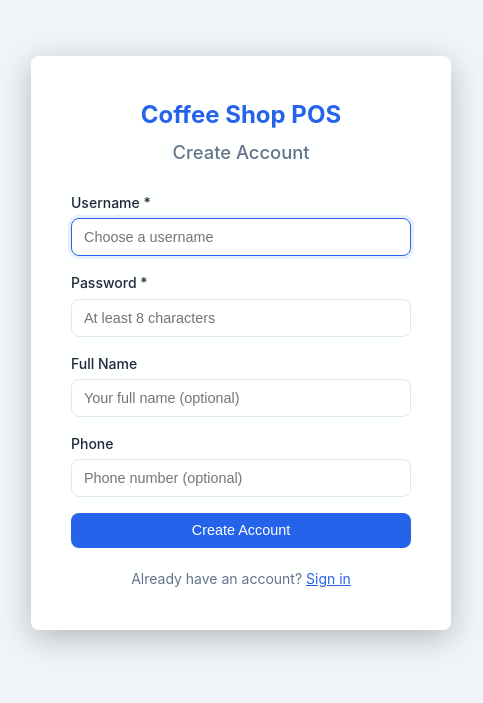
RegisterPage › shows error message on registration failure
This screenshot has width=483, height=703.
In the field labelled "Username *": (241, 237) [71,218,411,256], type "existing"
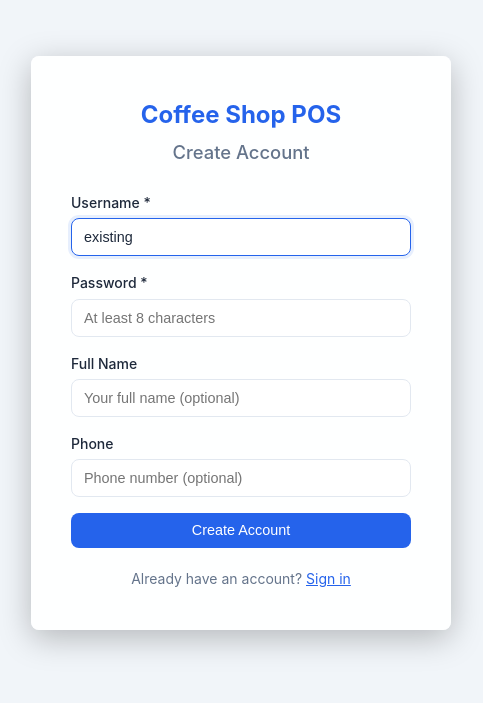
In the password field labelled "Password *": (241, 318) [71,298,411,336], type "password123"
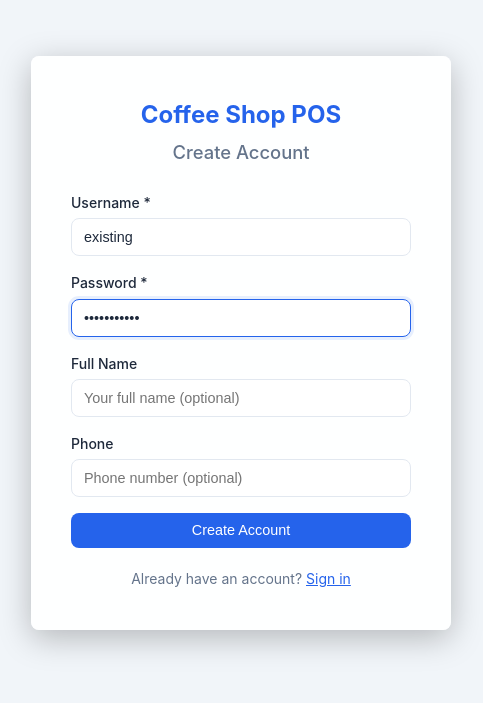
Click the button "Create Account": (241, 530) [71,513,411,548]
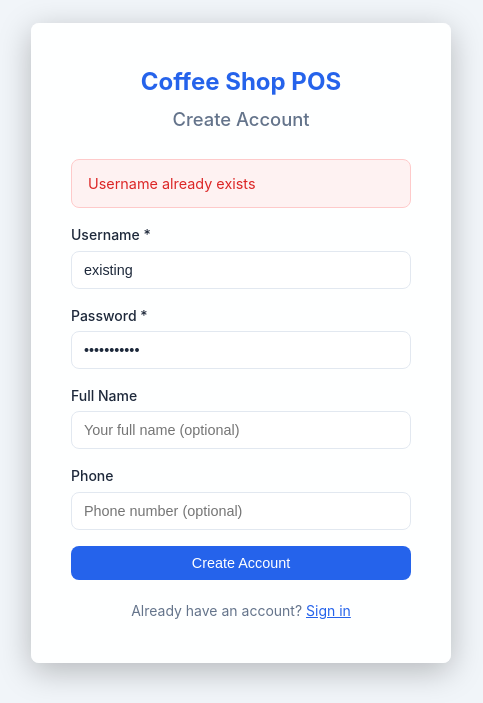
Now the text "Username already exists" is shown, box [71,159,411,208]
